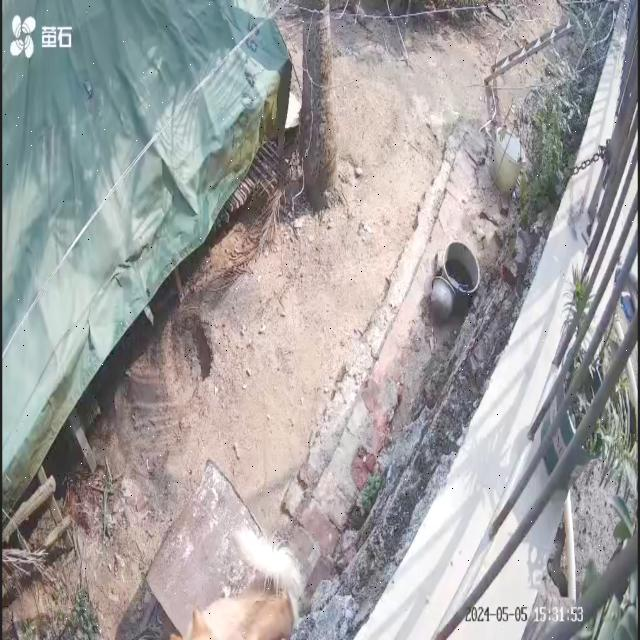dog: (170, 526, 304, 640)
